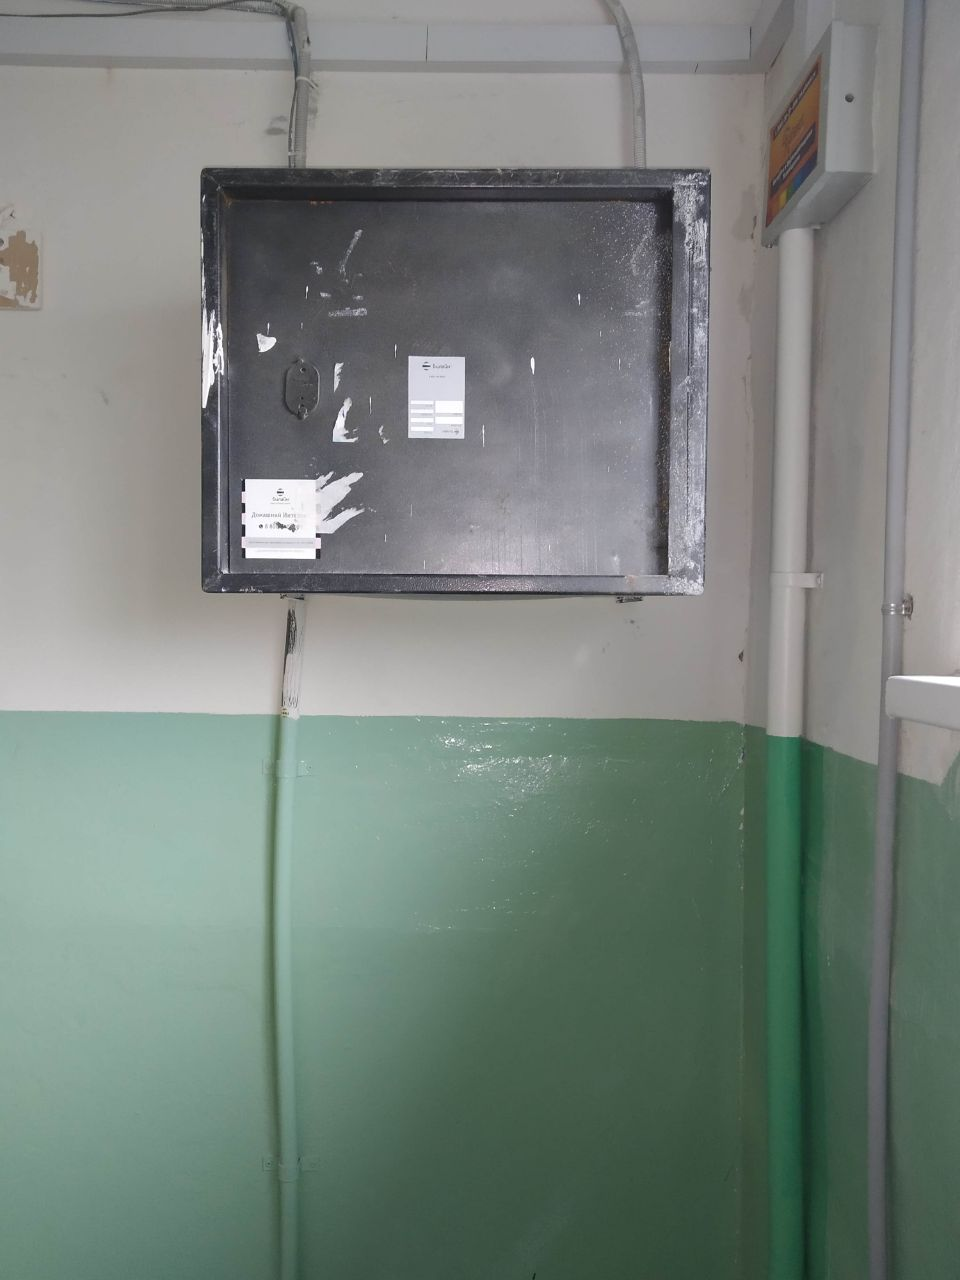shta-9m: (182, 145, 719, 614)
